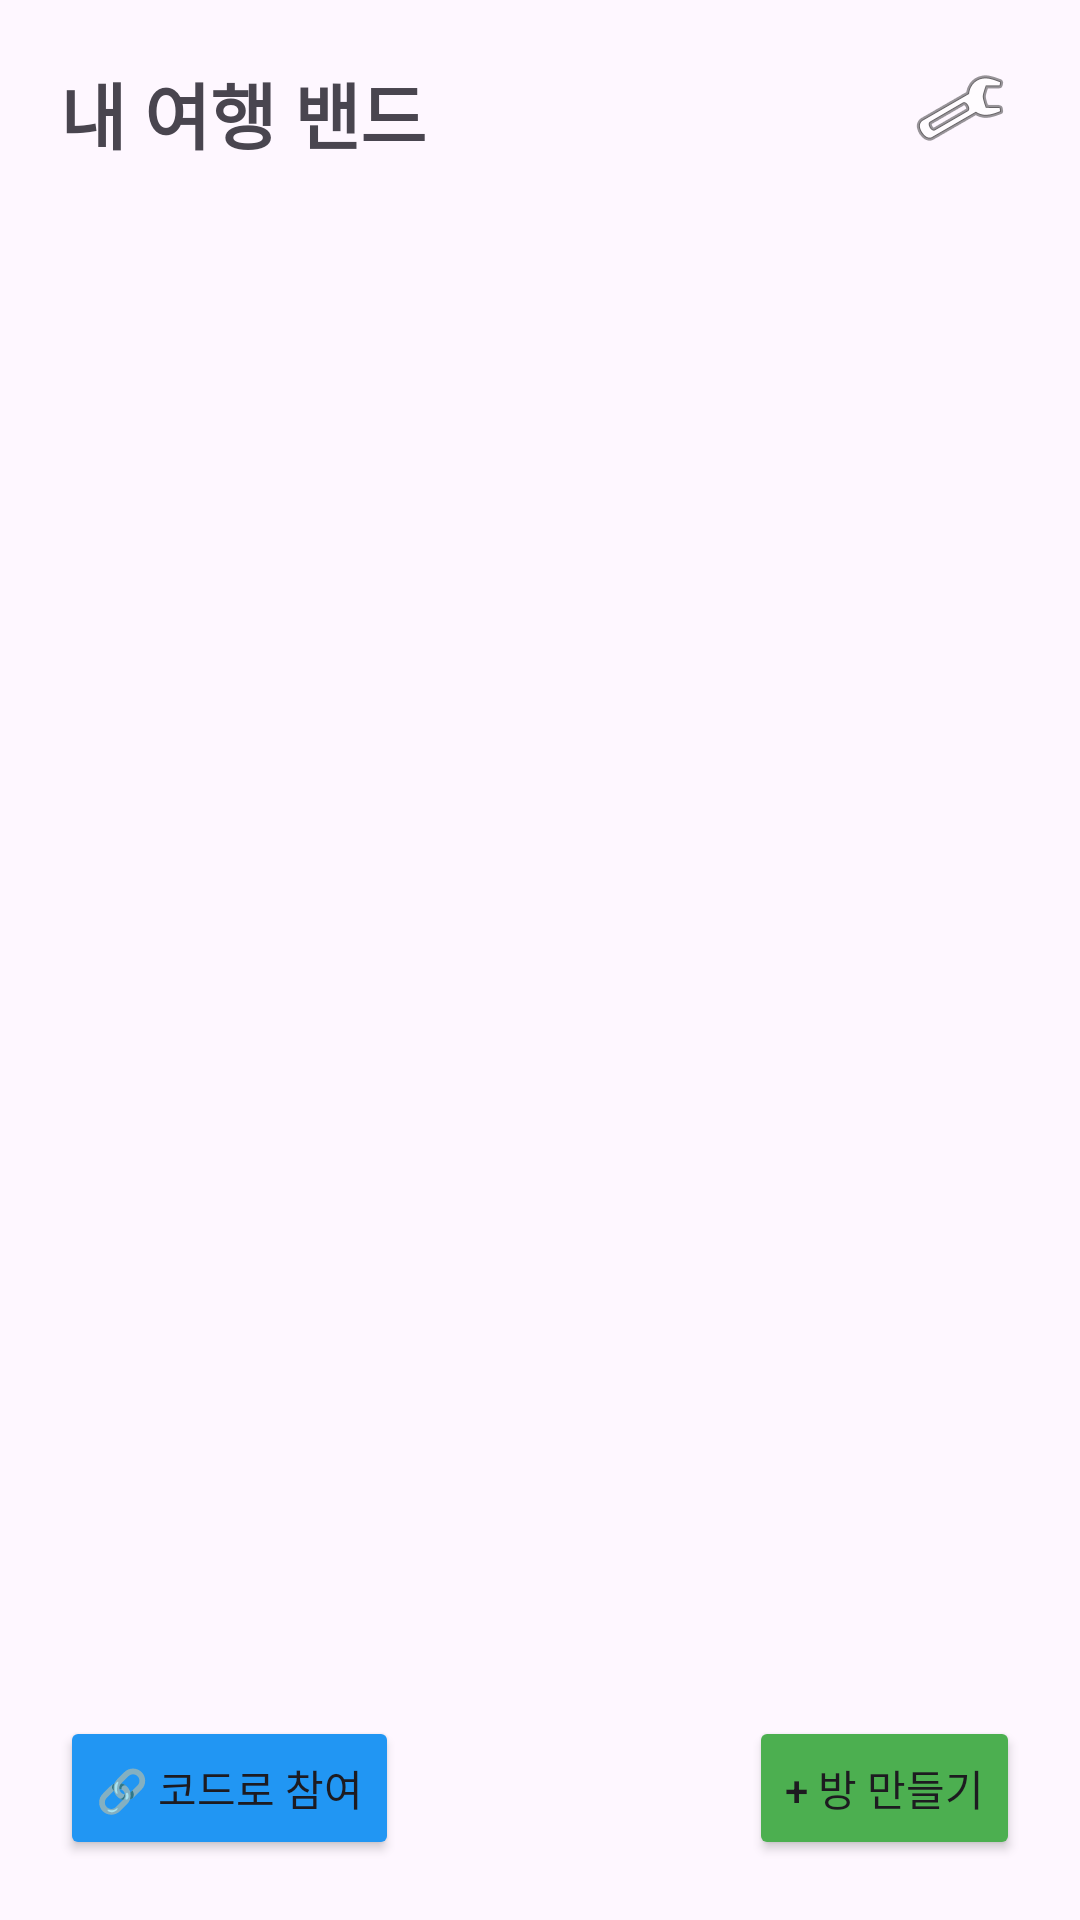

Locate icon controls on the screen. Image size 1080w x 1920h, boxes as Rect(x1, y1, x2, y2).
manage: Rect(917, 75, 1003, 141)
